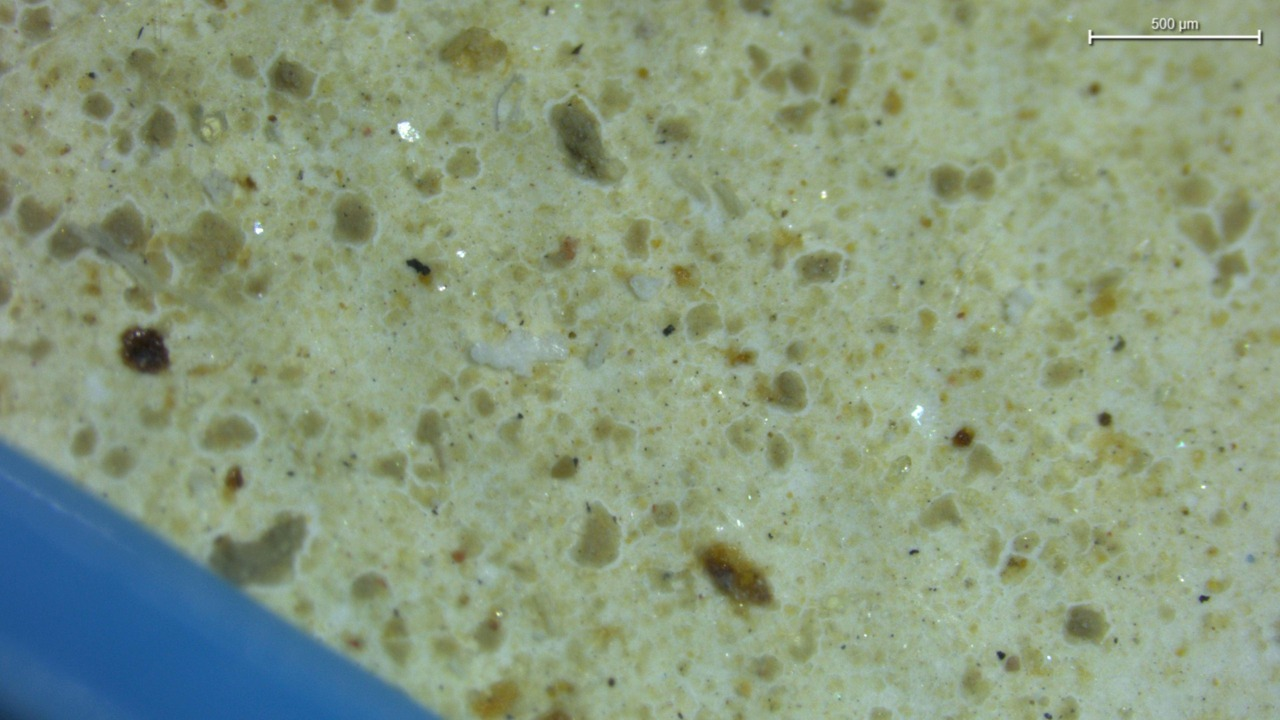microplastic_fragment: (470, 329, 568, 375), (629, 275, 663, 300)
